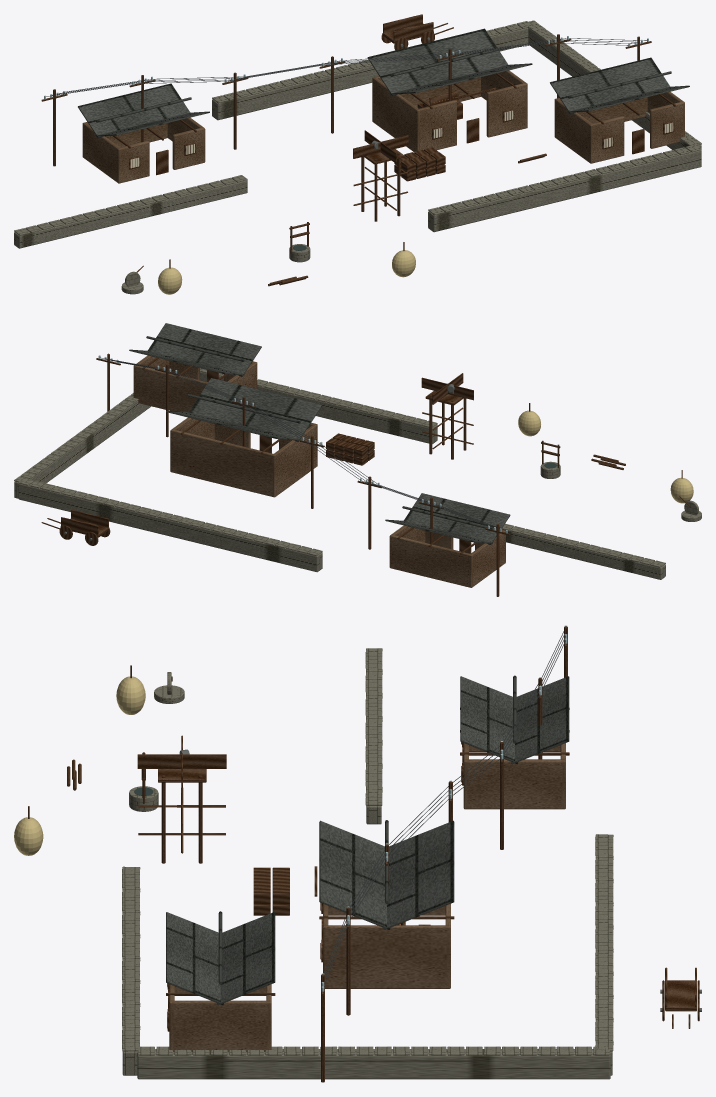
The model's file is Model_EnvironmentCounty.glb.
The picture shows the model from 3 angles, top to bottom: view 1: azimuth 30°, elevation 25°; view 2: azimuth 150°, elevation 25°; view 3: azimuth 270°, elevation 25°; orthographic projection. The views are drawn at different scales.
Parts seen in each view (by area): view 1: Model_EnvironmentCounty; view 2: Model_EnvironmentCounty; view 3: Model_EnvironmentCounty.
Boxes of the visible parts, left/top/right/bottom form: Model_EnvironmentCounty: left=14, top=14, right=701, bottom=294; Model_EnvironmentCounty: left=14, top=323, right=701, bottom=596; Model_EnvironmentCounty: left=14, top=625, right=701, bottom=1082.
Bounding box in the file's own units: 78.1 × 11.23 × 53.78.
11 materials, 4 textured.
